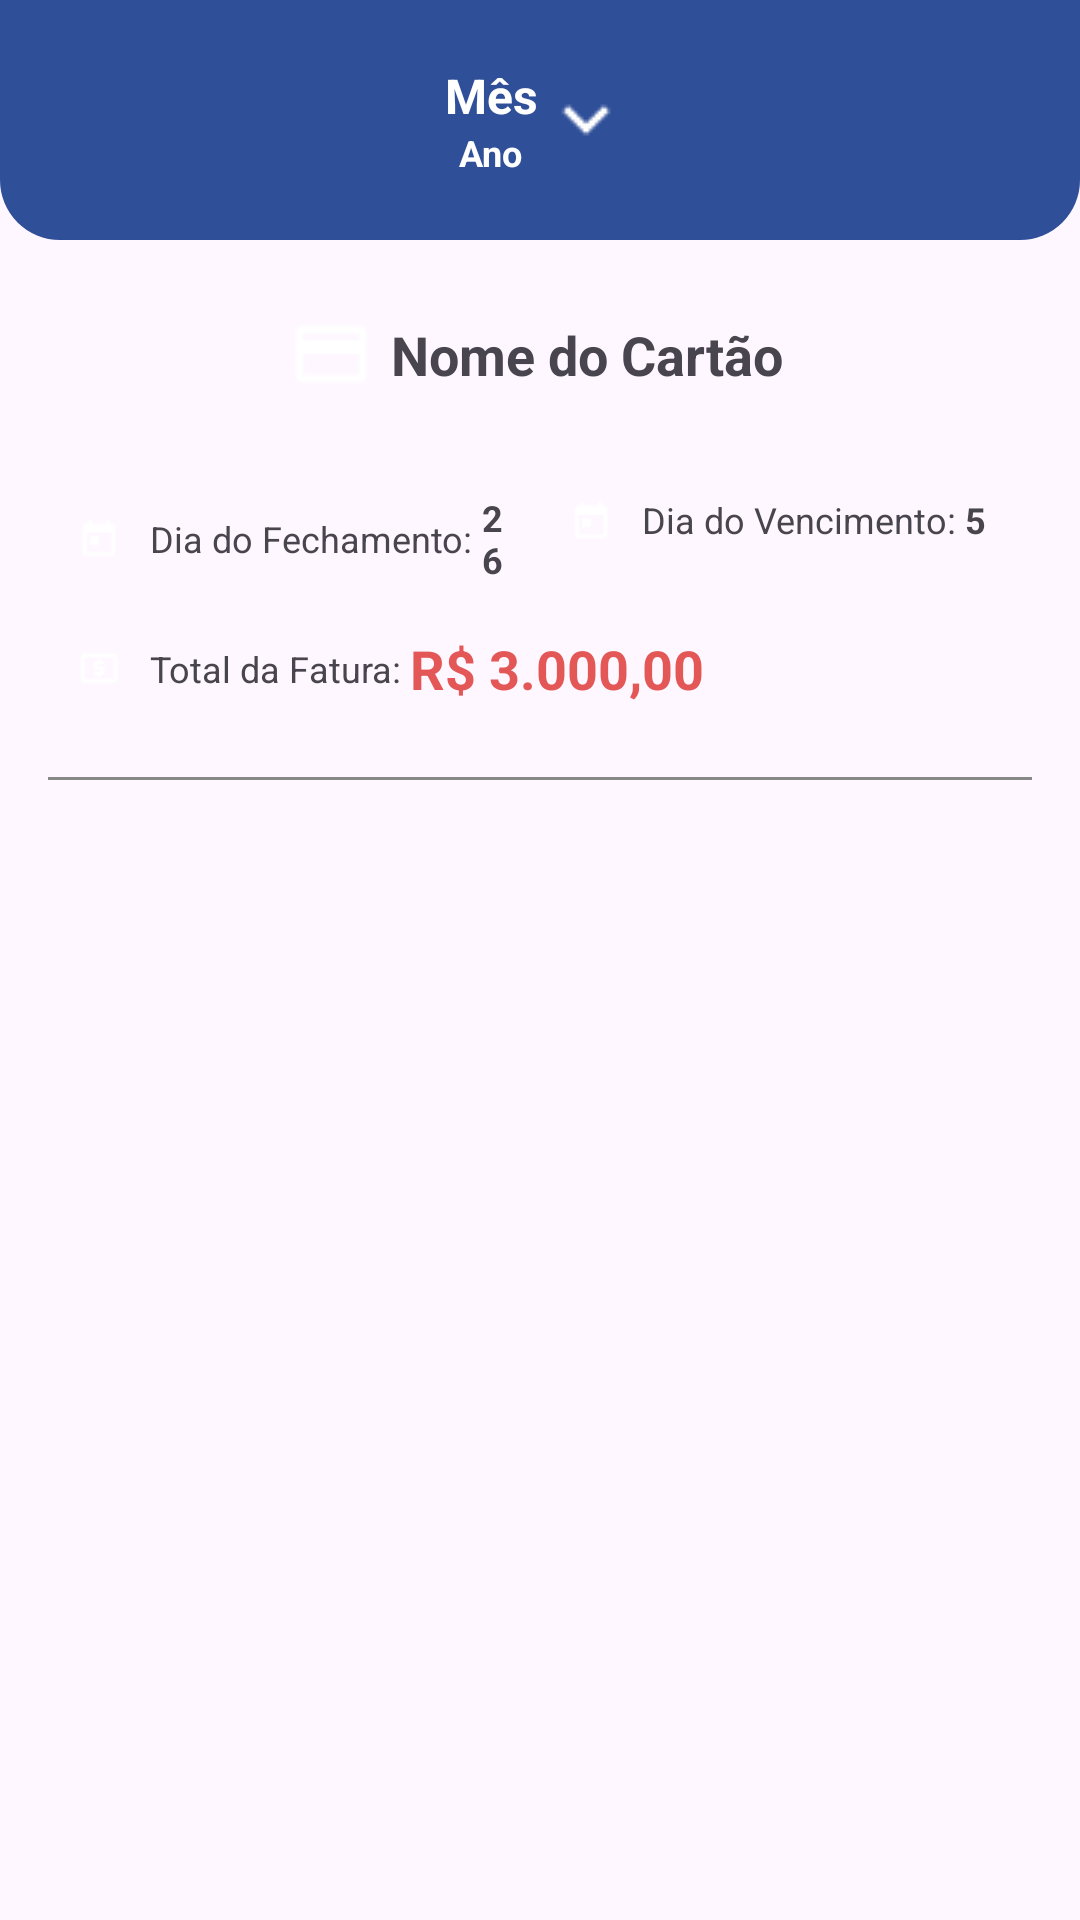

Point at icon controls on the screen. Image size 1080 × 1920, points as (x=x, y=y).
keyboard arrow down: (x=586, y=120)
